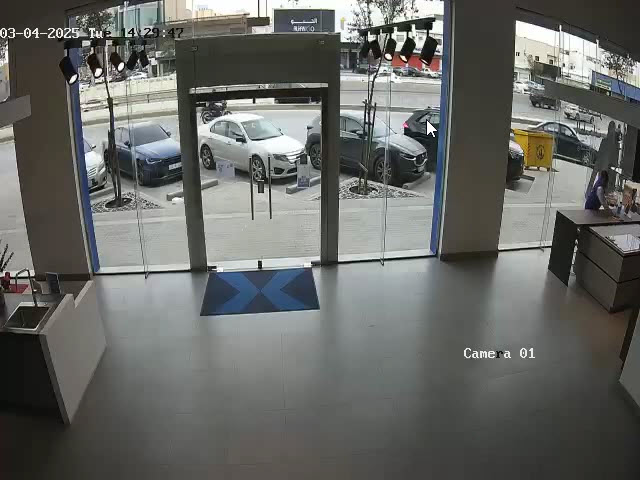employee: (582, 165, 623, 221)
